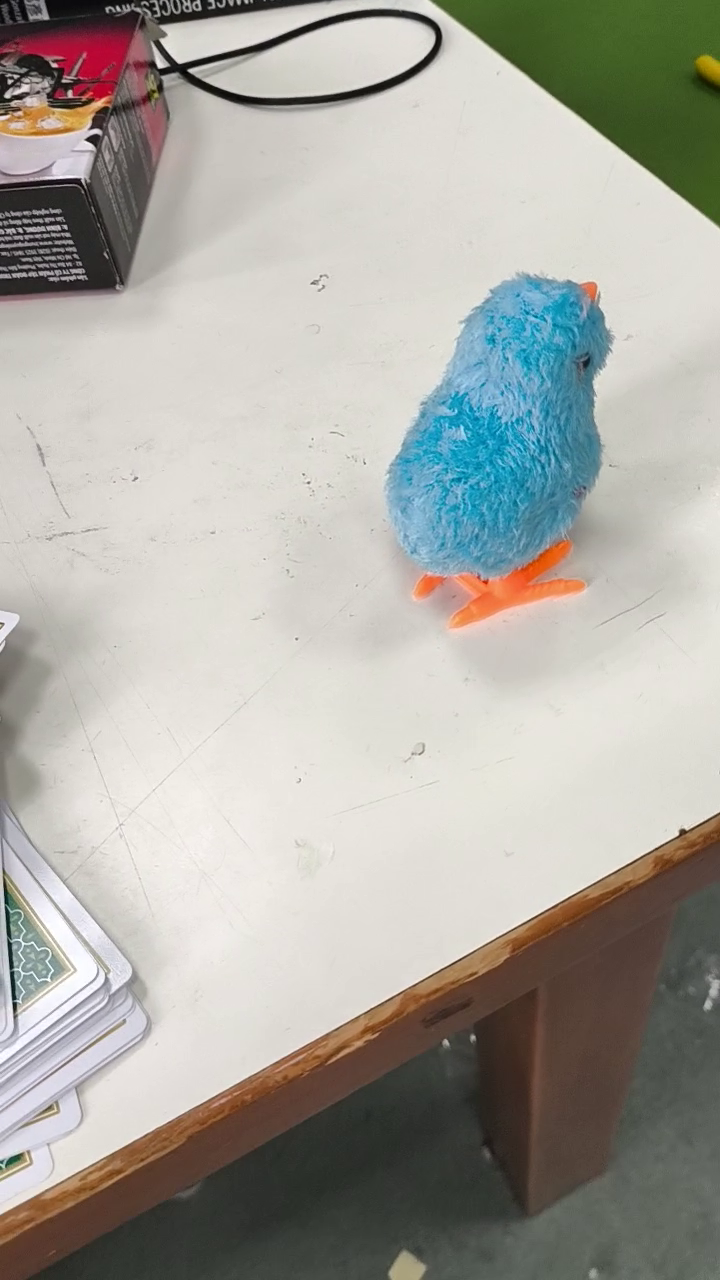blue chicken: (381, 271, 618, 633)
